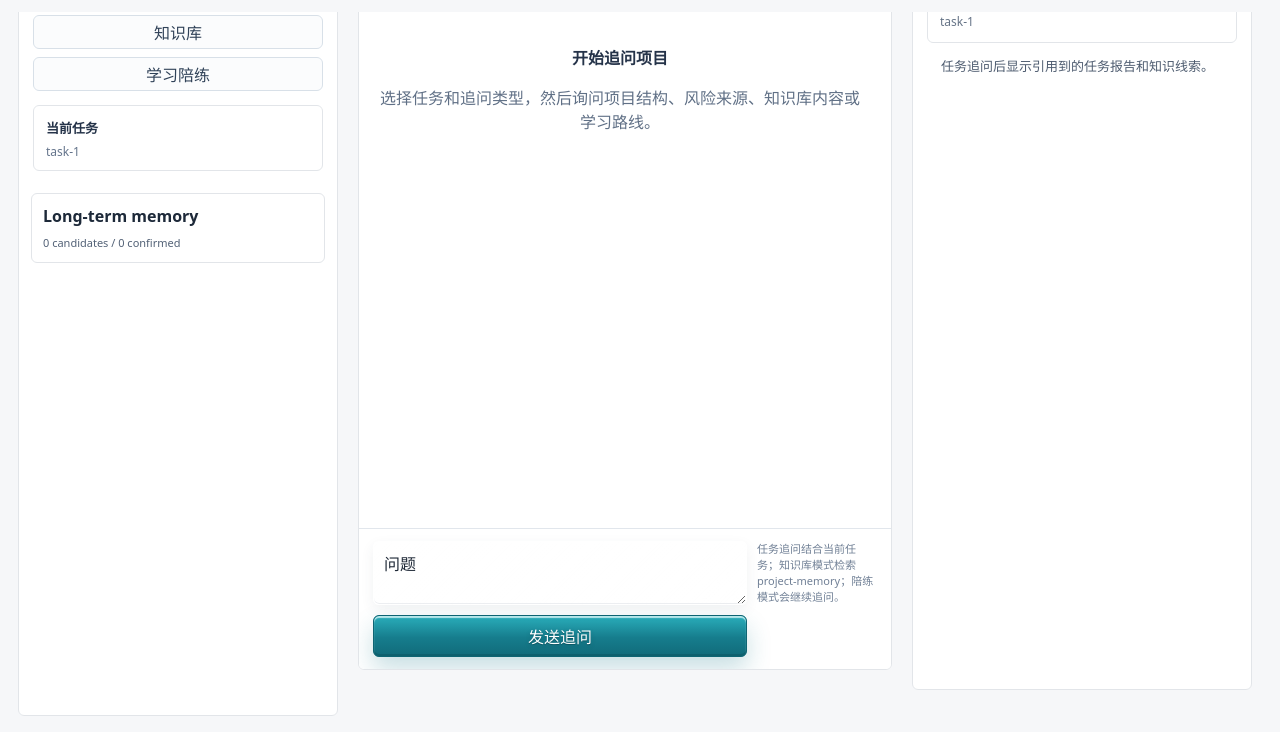
Scenario: ChatWorkspacePage › shows a compatible API error when sending a question fails
(page scrolled)
Step 1. Click the button "发送追问" → (560, 636), box [373,615,747,657]
(page scrolled)
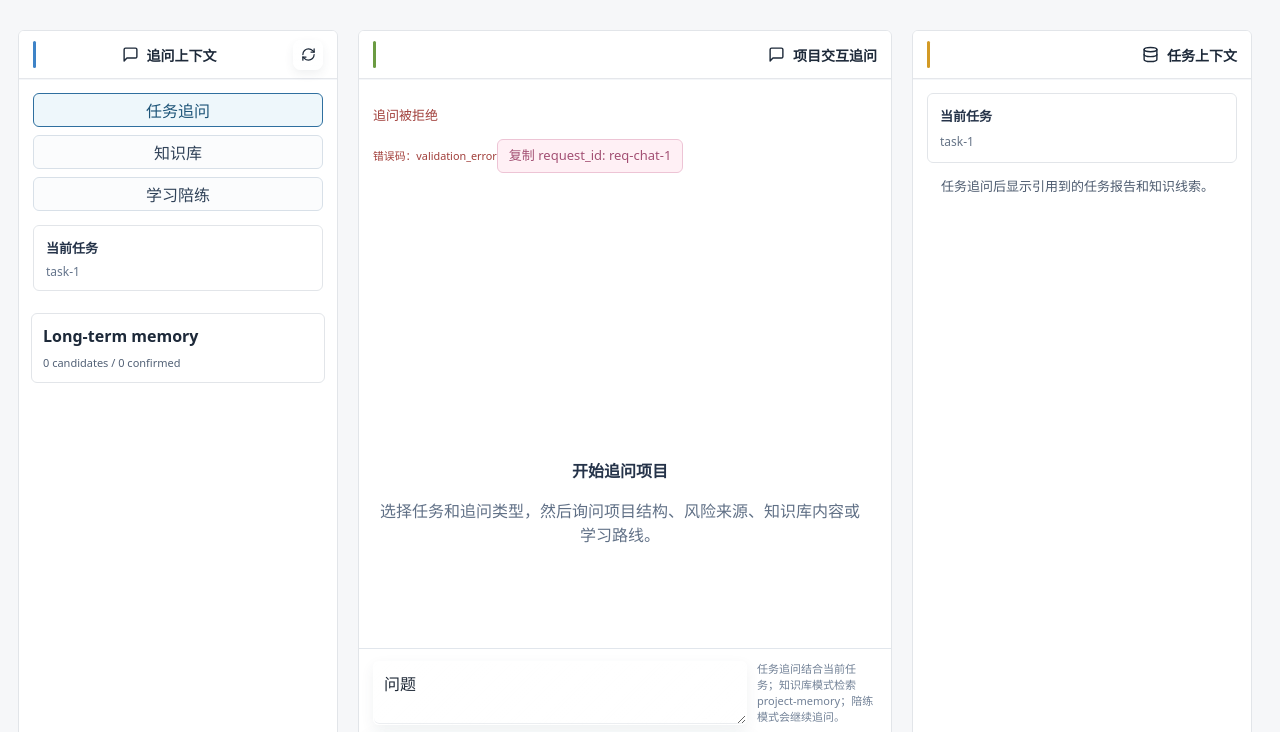
Now the message shows "追问被拒绝", box [373,106,438,124]
Now the message shows "req-chat-1", box [497,138,683,172]
